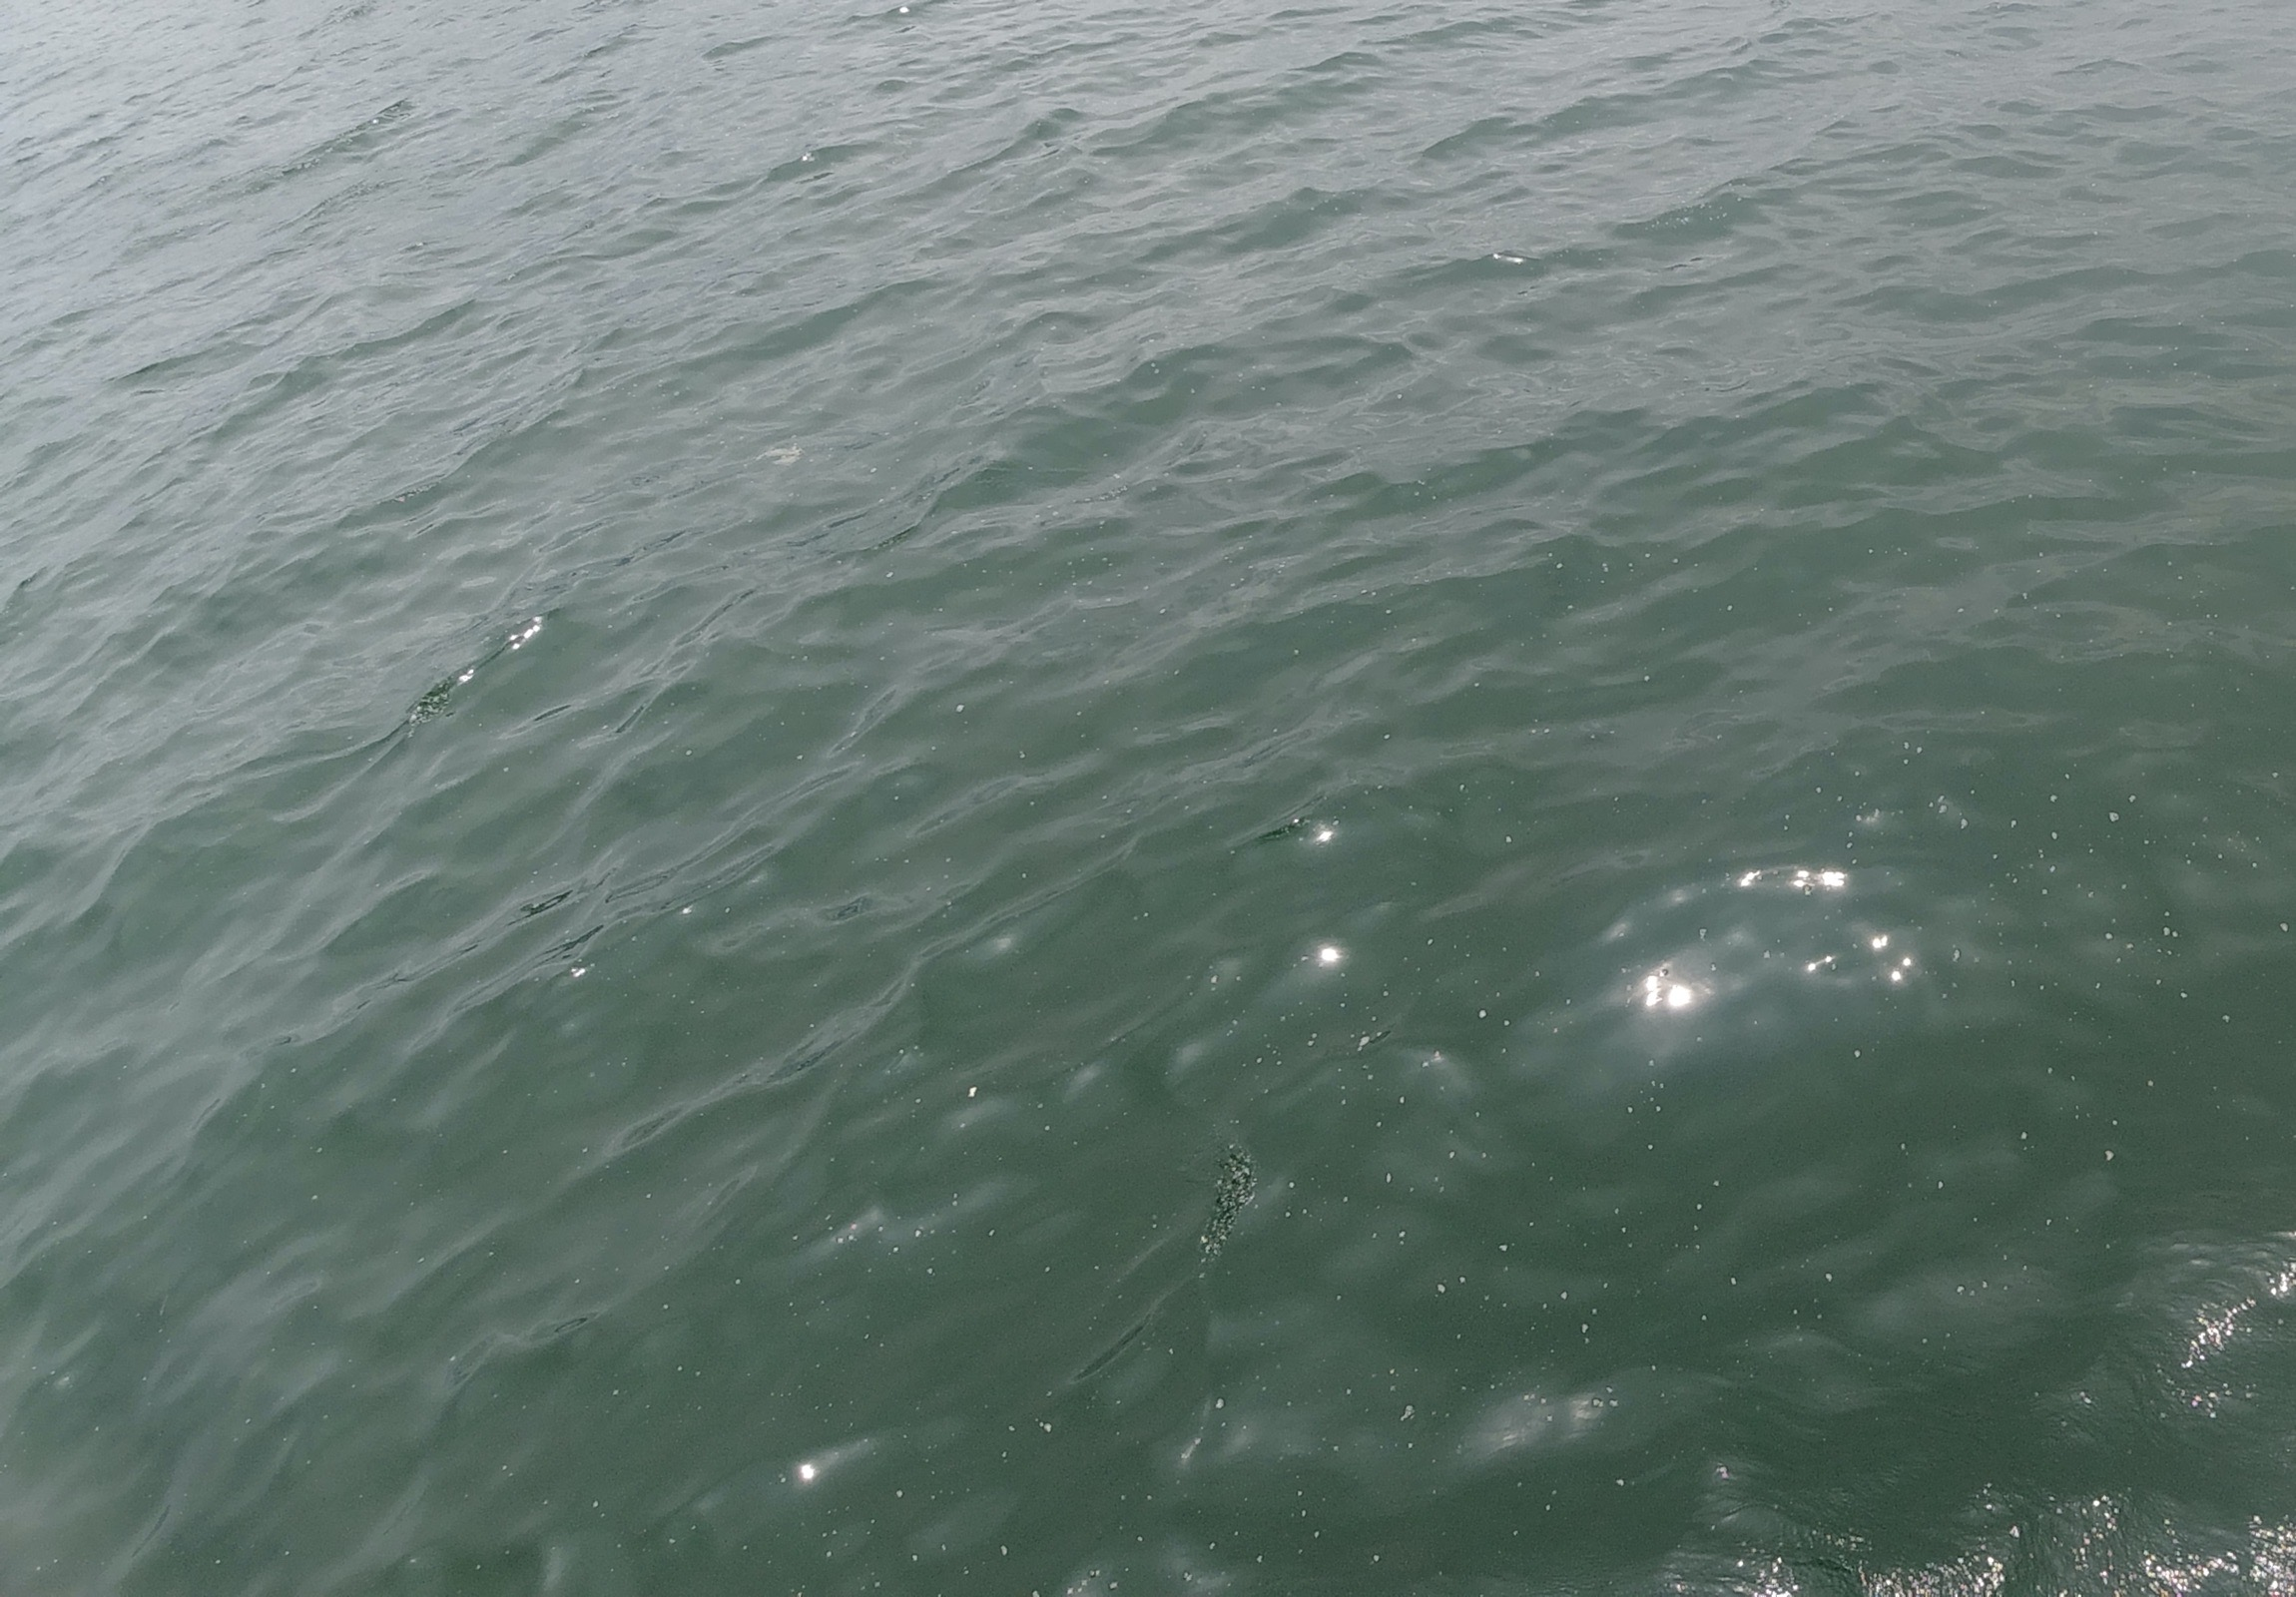plastic: (747, 433, 813, 475)
